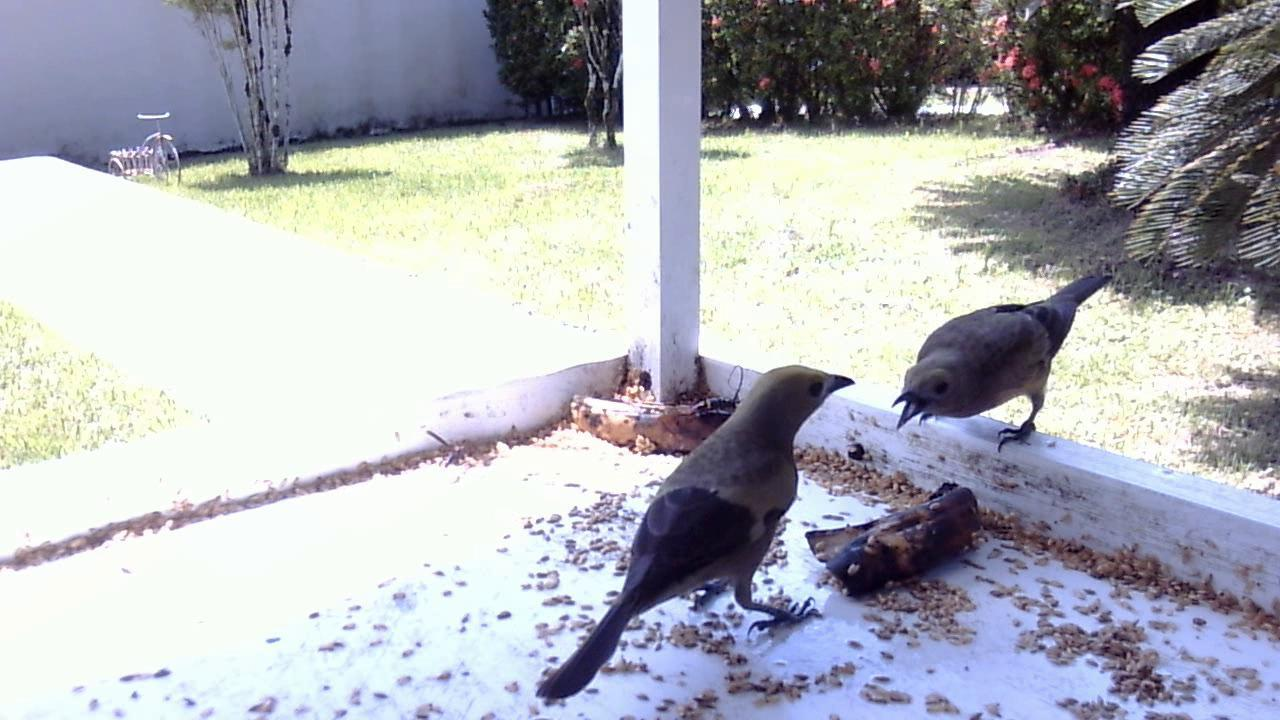sanhaco_do_coqueiro: (521, 351, 857, 708), (885, 264, 1119, 467)
